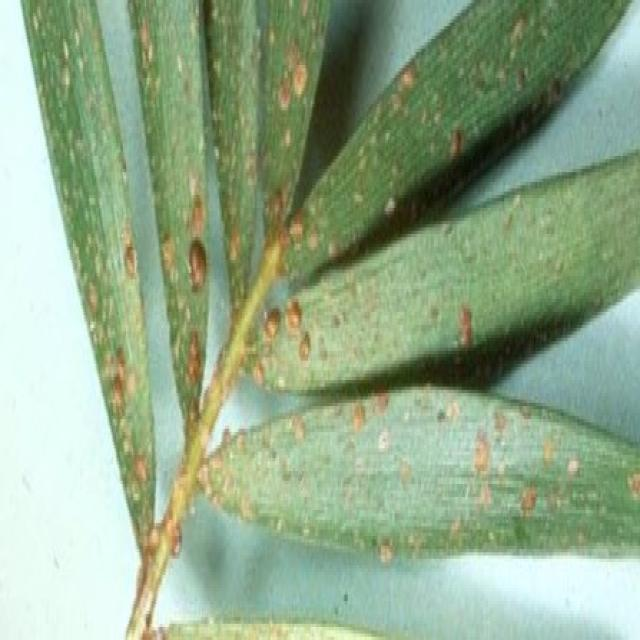Black Scale: (56, 153, 153, 546), (281, 55, 432, 289), (129, 0, 210, 435), (263, 0, 330, 256), (205, 0, 261, 289), (126, 455, 198, 637), (239, 297, 321, 390)
